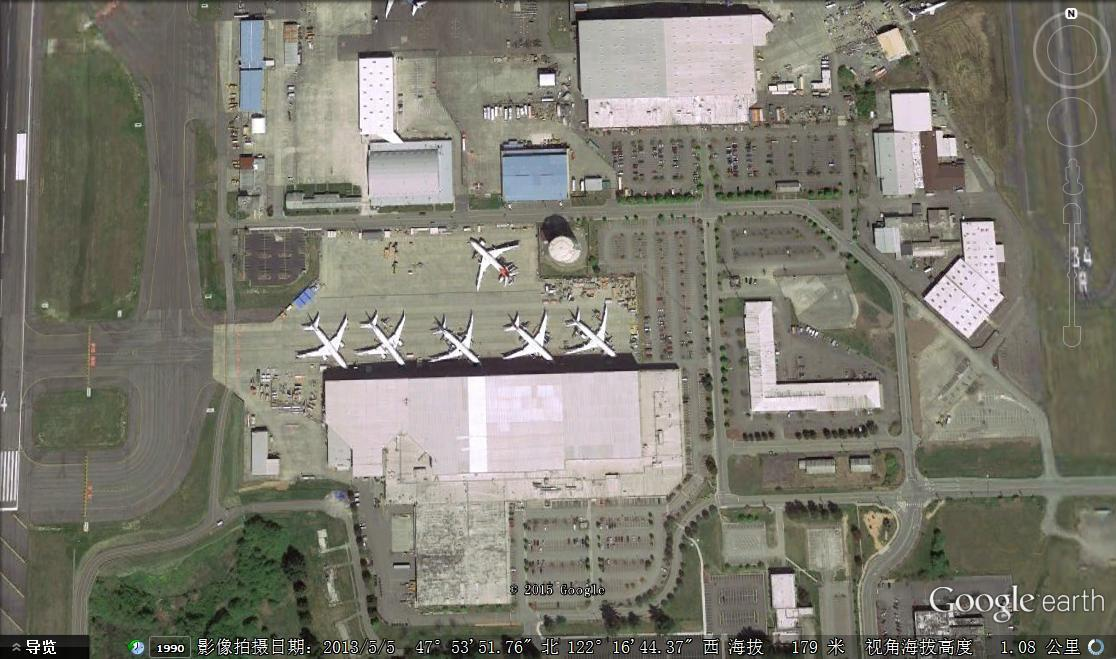aircraft: (462, 229, 525, 298), (562, 298, 625, 362), (288, 312, 353, 374), (352, 306, 413, 372), (426, 308, 486, 374), (467, 233, 525, 295), (500, 306, 559, 364)
